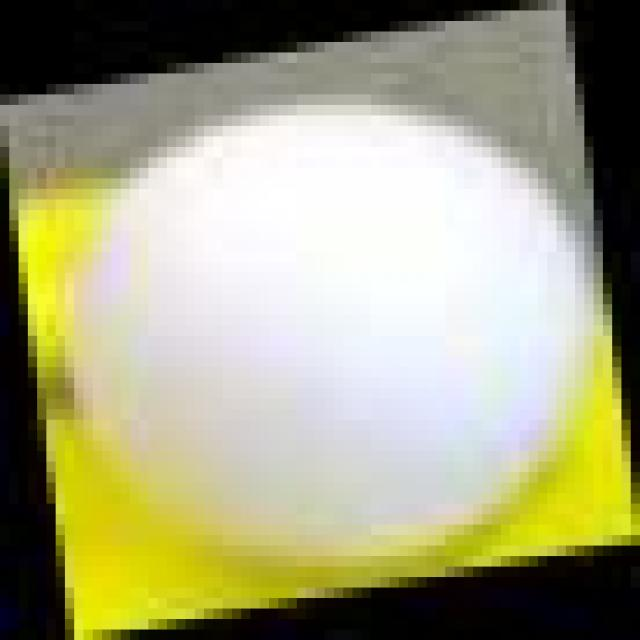Egg: (39, 73, 612, 588)
